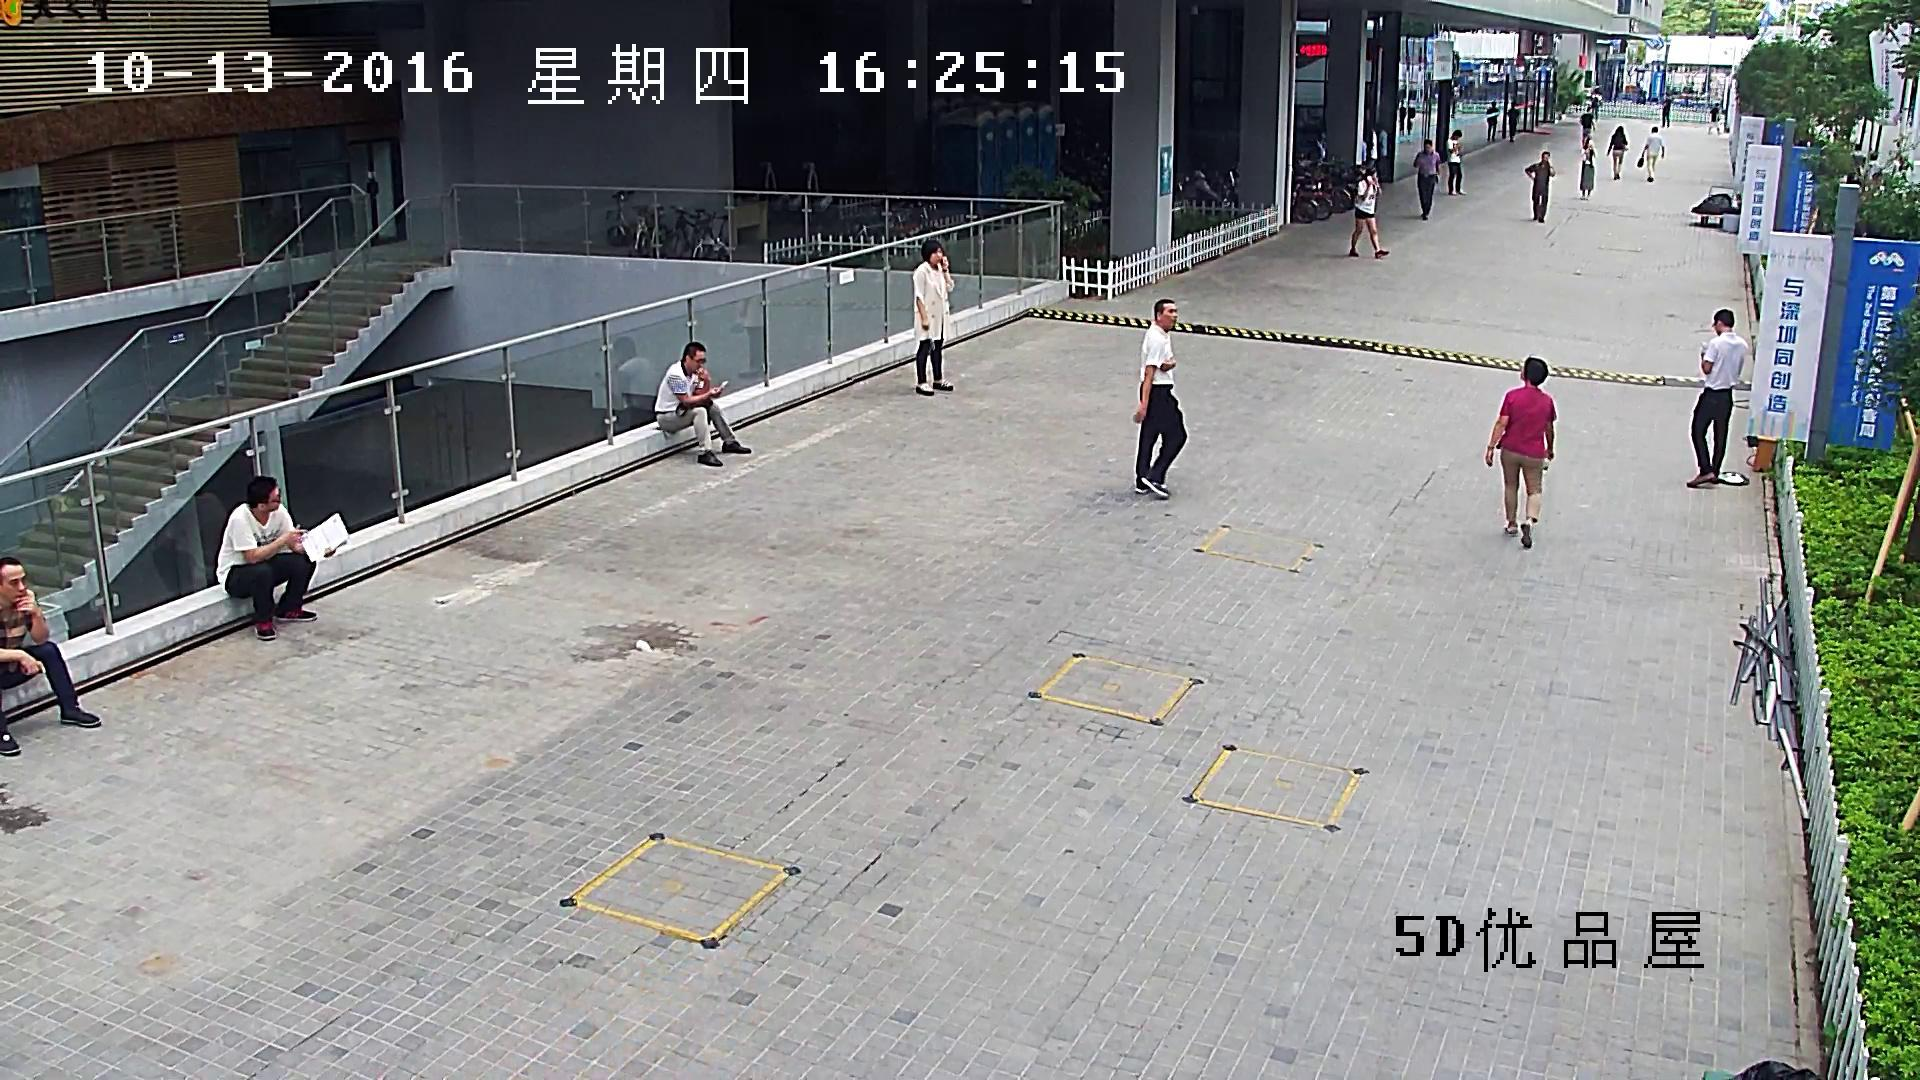person: (214, 474, 346, 638), (0, 556, 101, 755), (1485, 357, 1556, 547), (654, 341, 750, 466), (1687, 309, 1747, 486), (1133, 298, 1186, 498), (152, 473, 228, 592), (913, 239, 954, 395), (593, 337, 657, 432), (1349, 166, 1389, 257), (1524, 152, 1555, 221), (737, 293, 762, 377), (1413, 140, 1440, 218), (1636, 126, 1663, 181), (1605, 125, 1628, 179), (1447, 129, 1465, 195), (1579, 138, 1595, 200), (1579, 107, 1596, 146), (1485, 100, 1498, 140), (1507, 102, 1519, 142), (1707, 103, 1721, 135), (1590, 88, 1601, 120), (1661, 93, 1671, 127)
